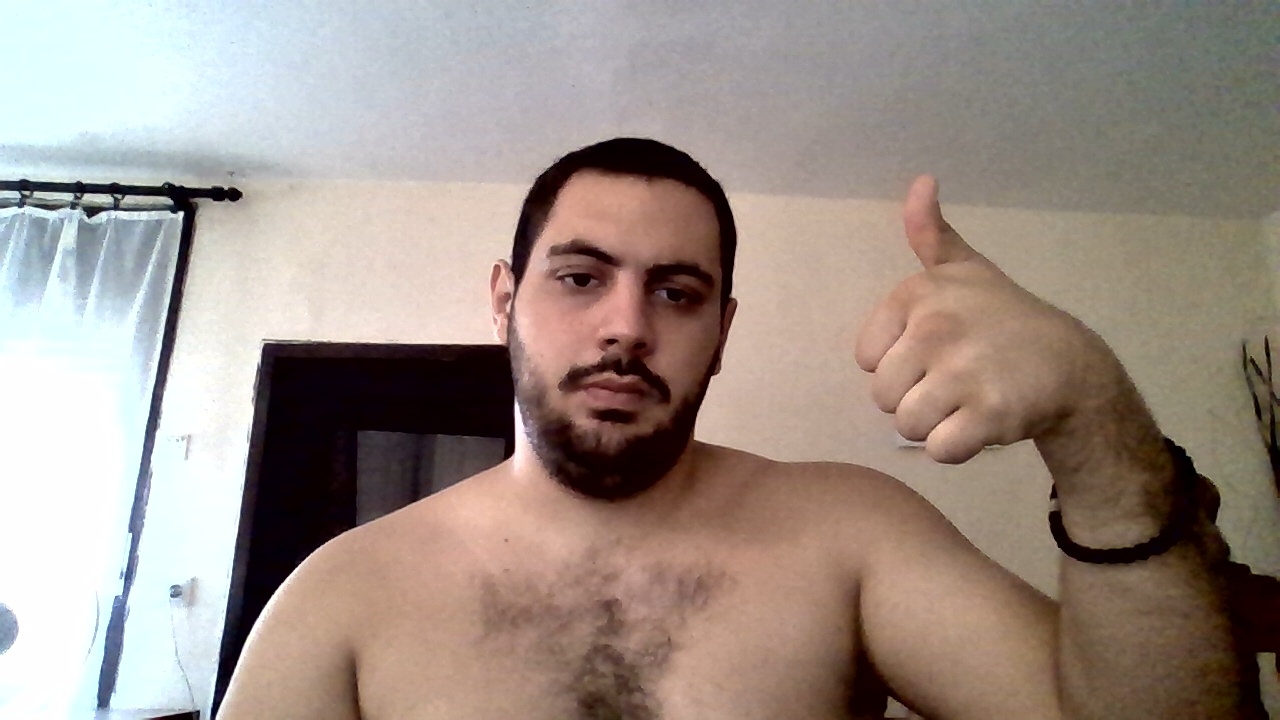like: (846, 176, 1067, 465)
